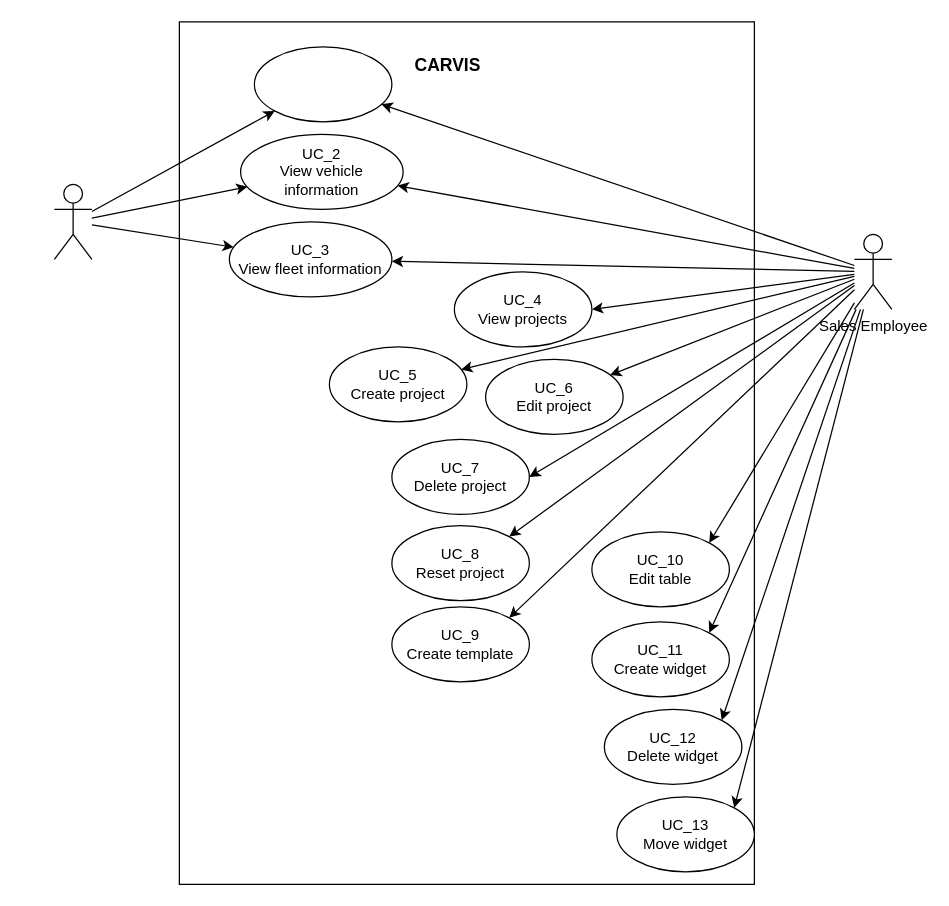
This 949x906 diagram has some shape labels left out. Each missing label, with the centre of its shape:
"Decision Maker" belongs at point (72, 221).
"UC_1 View vehicles" belongs at point (322, 84).
